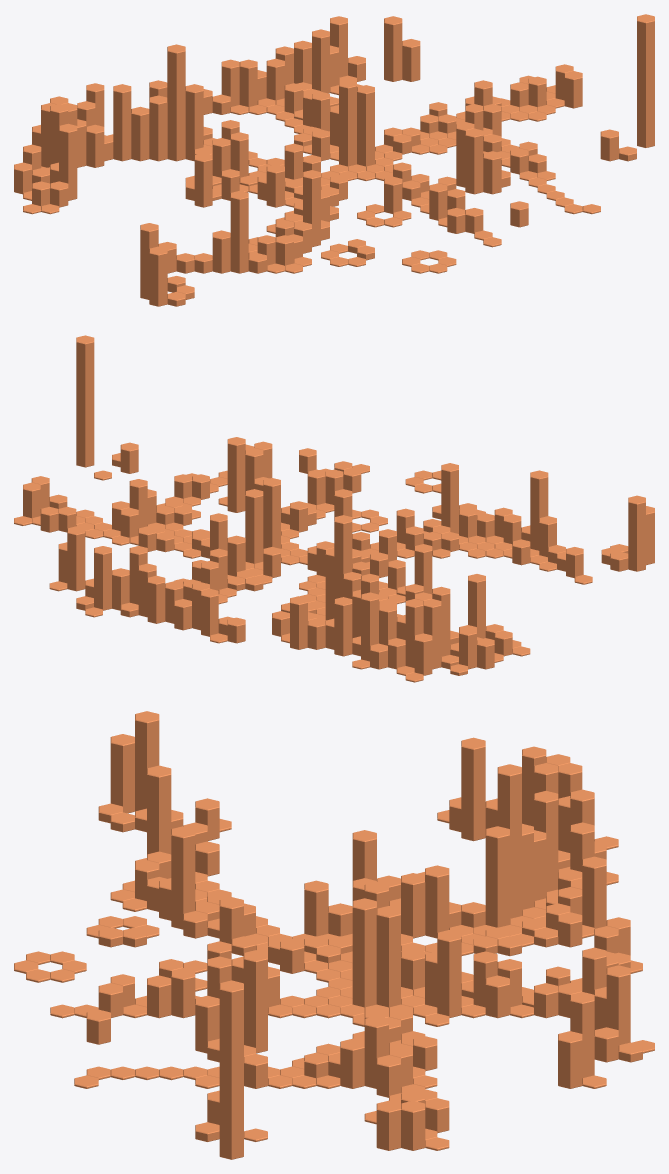
The model's file is akriya-3-1.glb.
3 renders of one model, top to bottom at view 1: azimuth 30°, elevation 25°; view 2: azimuth 150°, elevation 25°; view 3: azimuth 270°, elevation 25°, orthographic. The views are drawn at different scales.
Bounding box in the file's own units: 182 × 39.9 × 138.
